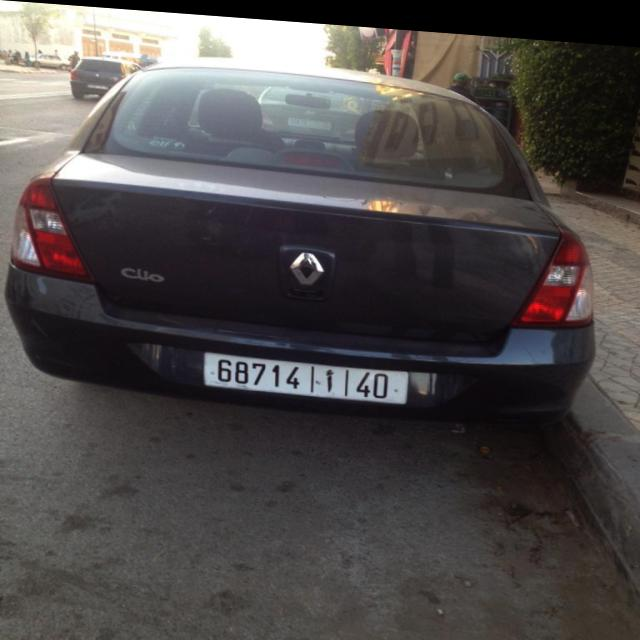License-Plate: (203, 349, 413, 398)
